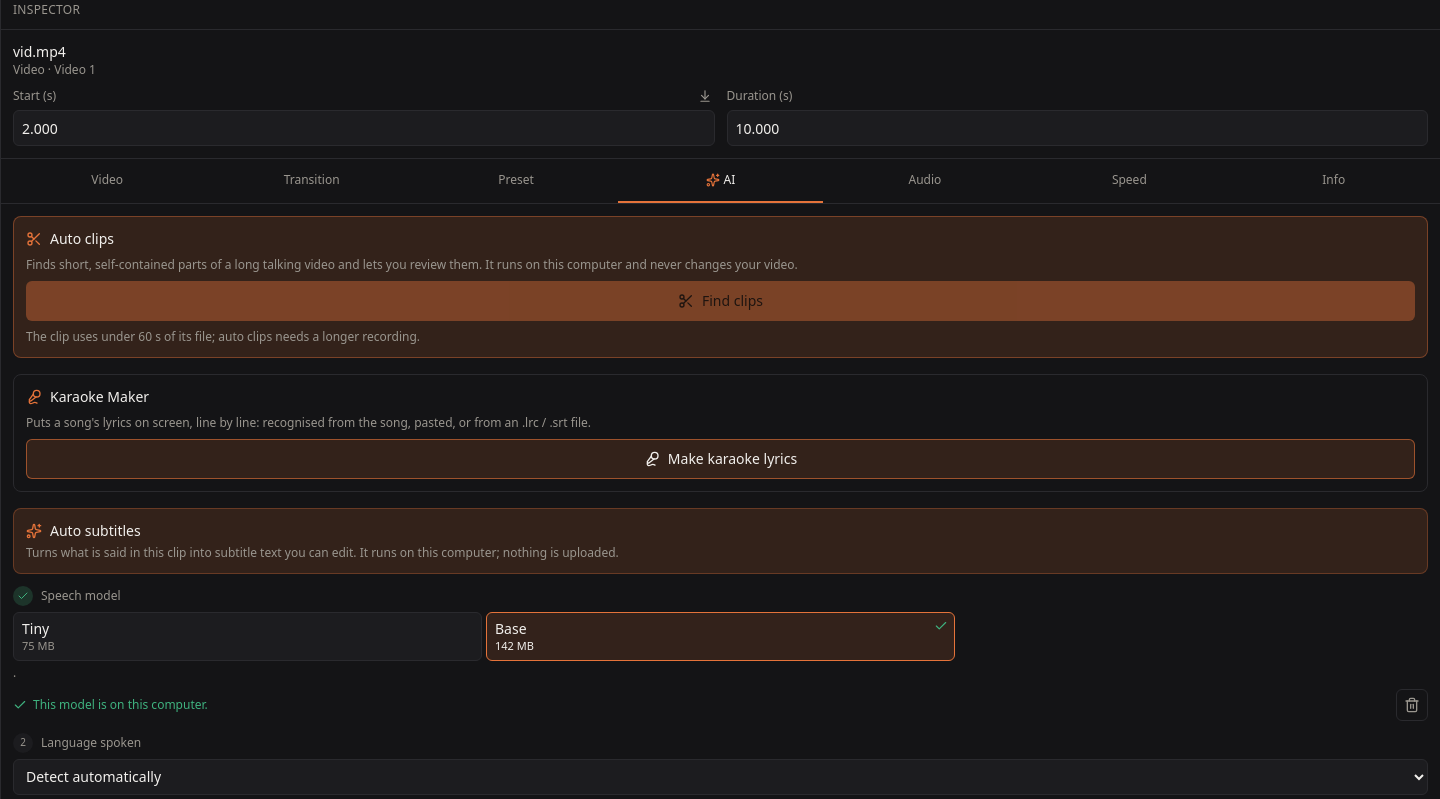
Test: subtitles from the AI tab › turns the clip's speech into editable text clips, as one undoable step
This screenshot has width=1440, height=799.
Select "Indonesian" in the dropdown named "Language spoken": (720, 777) [13, 759, 1428, 795]
(page scrolled)
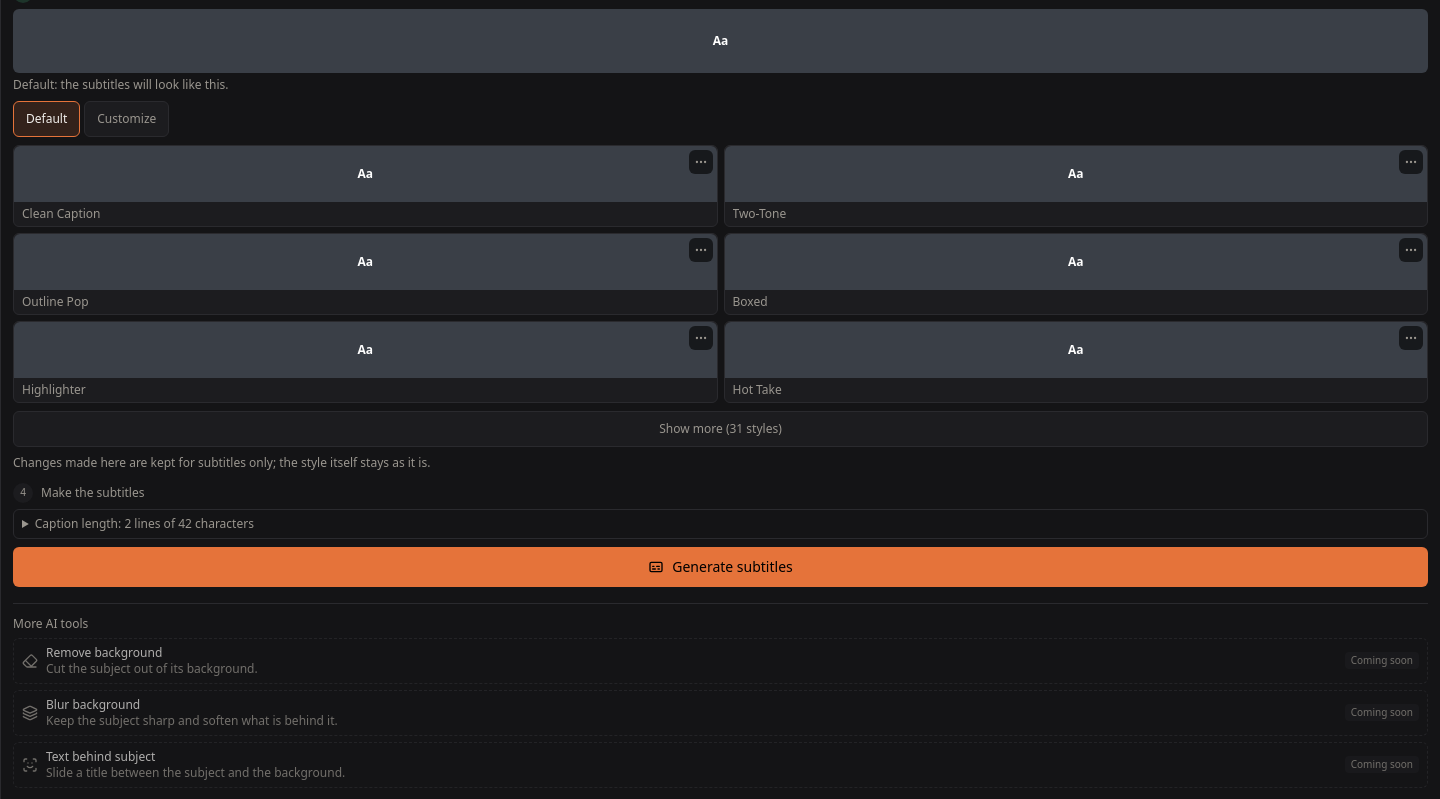
Click the button "Generate subtitles": (720, 567) [13, 547, 1428, 587]
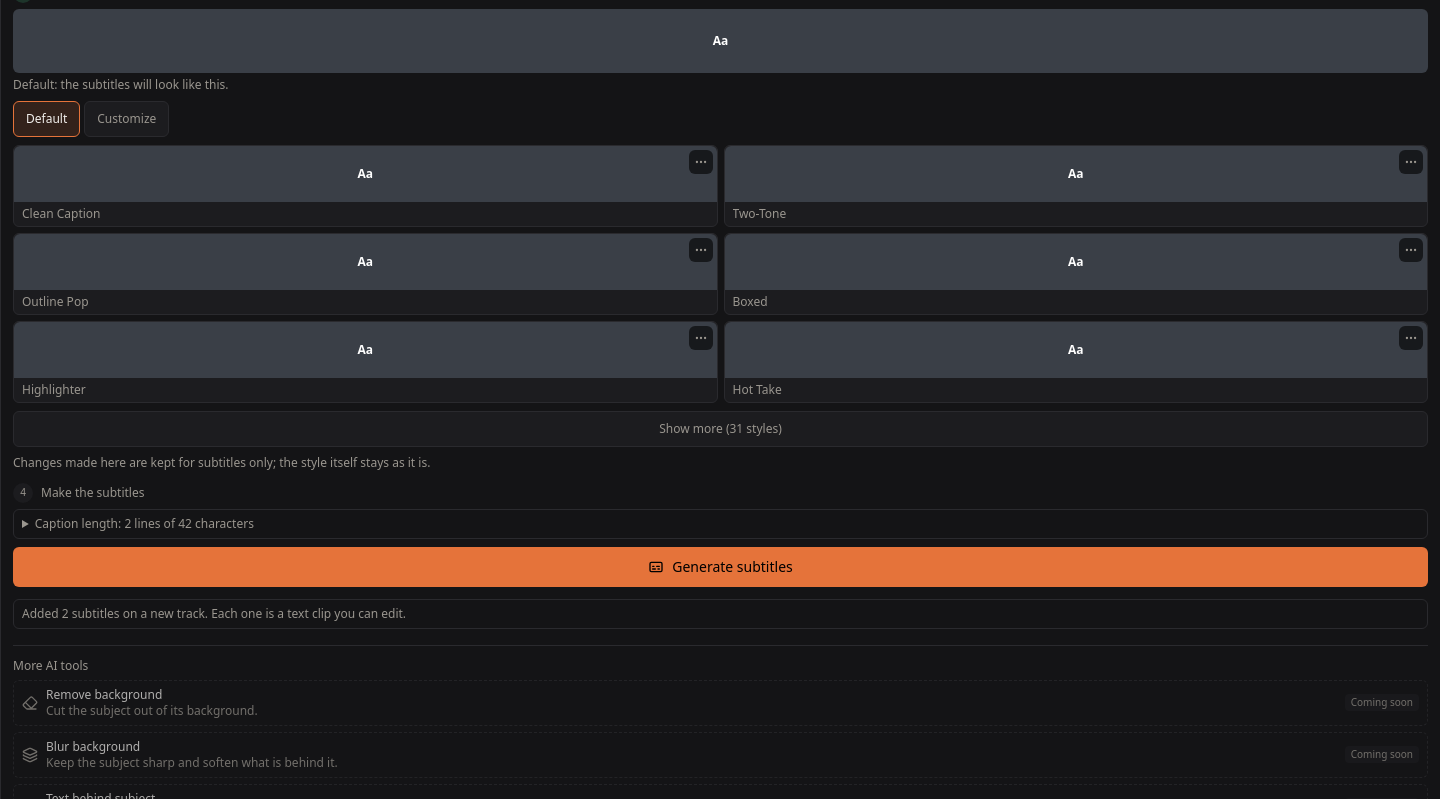
Now the message shows "Added 2 subtitles on a new track", box [22, 605, 406, 622]
